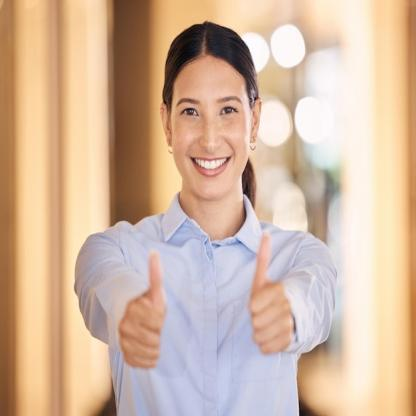thumb_up: (116, 245, 172, 372), (245, 225, 297, 359)
